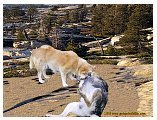dog: (30, 44, 97, 87), (47, 72, 109, 118)
